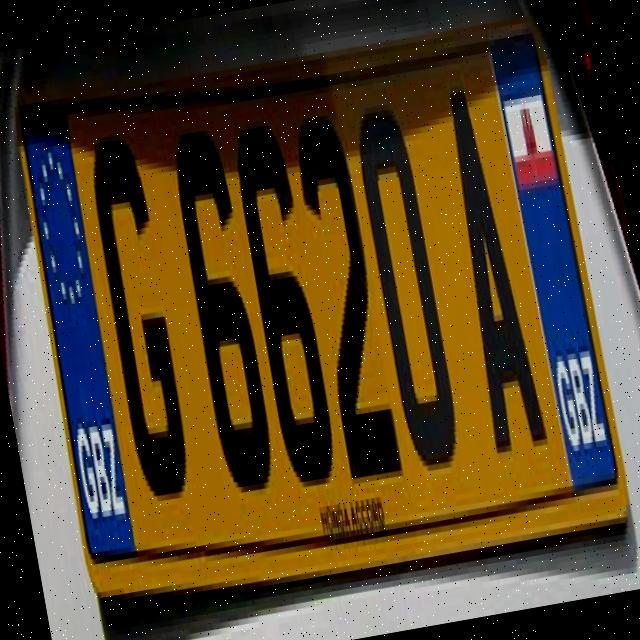Autre: (12, 9, 625, 557)
